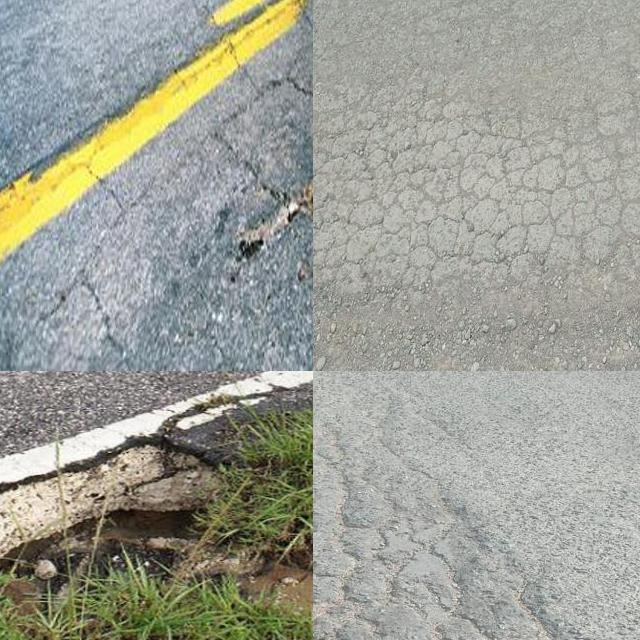Pinggir: (0, 401, 313, 640)
Retak Buaya: (313, 113, 640, 320), (313, 418, 582, 640)
